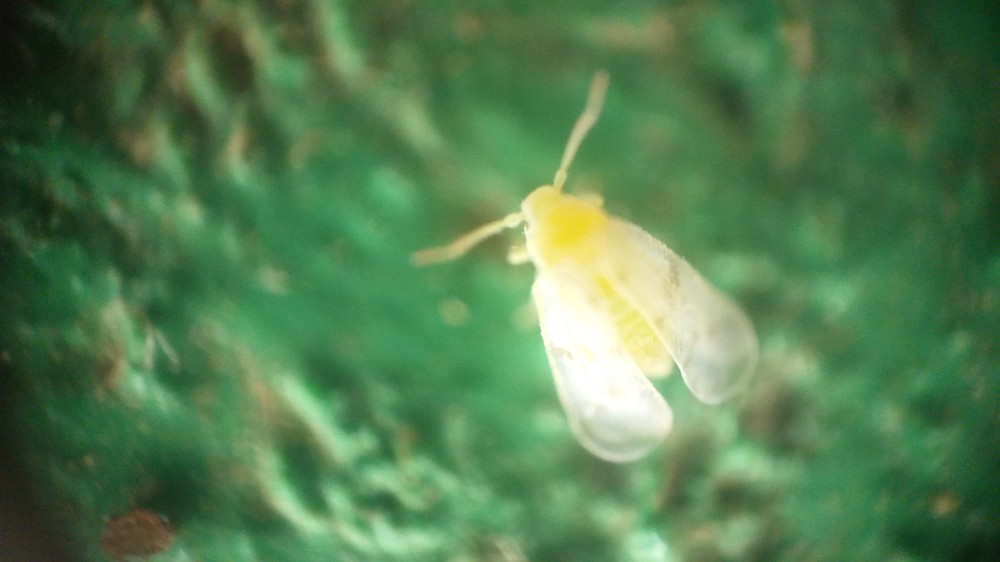Mosca Blanca: (393, 62, 789, 483)
